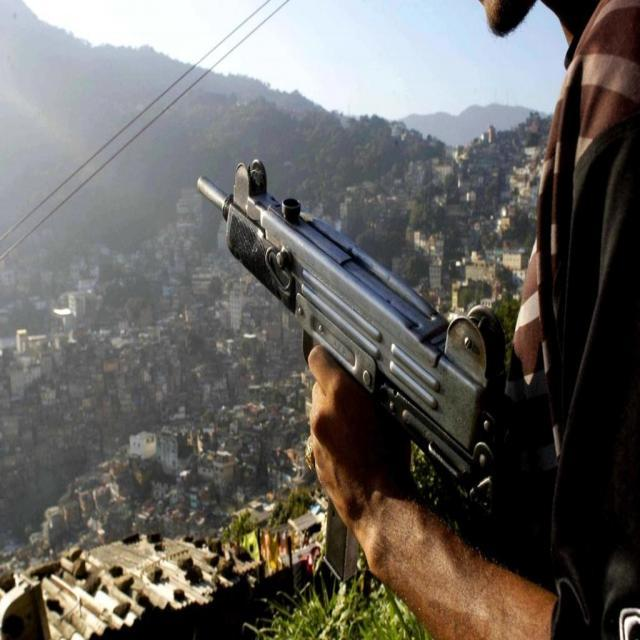weapon: (195, 155, 510, 586)
